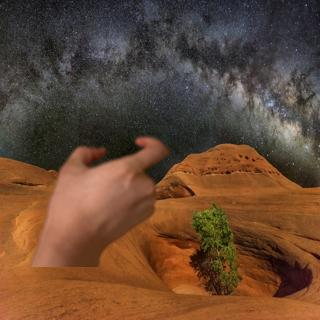HATE: (35, 131, 172, 260)
